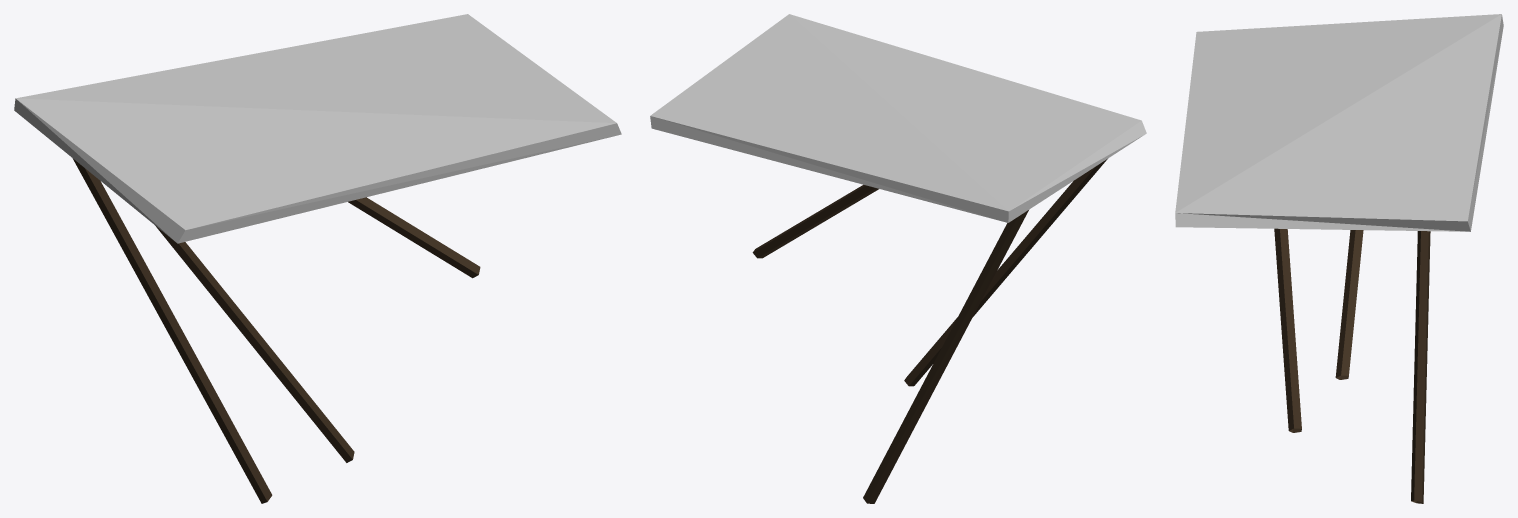
File: OW_ORETRAIL_PLANK_V01.OBJ
The picture shows the model from 3 angles, left to right: view 1: azimuth 30°, elevation 25°; view 2: azimuth 150°, elevation 25°; view 3: azimuth 270°, elevation 25°; orthographic projection. The views are drawn at different scales.
Parts seen in each view (by area): view 1: OW_ORETRAIL_PLANK_V01; view 2: OW_ORETRAIL_PLANK_V01; view 3: OW_ORETRAIL_PLANK_V01.
Boxes of the visible parts, <box> form: OW_ORETRAIL_PLANK_V01: <box>14,14,621,503</box>; OW_ORETRAIL_PLANK_V01: <box>650,14,1146,503</box>; OW_ORETRAIL_PLANK_V01: <box>1175,14,1503,503</box>.
Size of the model in its own units: 12.84 by 11.9 by 8.92.
